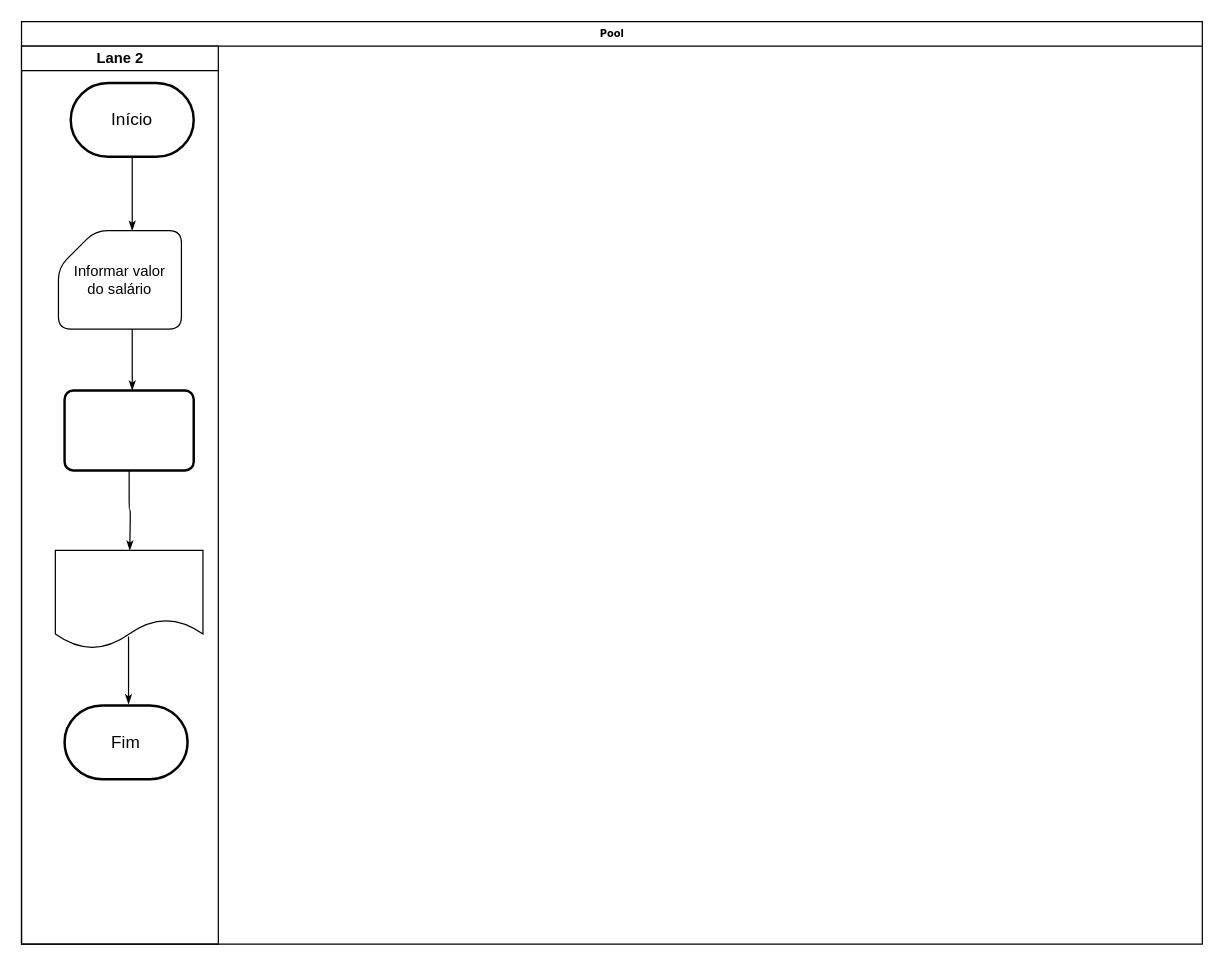
This 1224x966 diagram has some shape labels left out. Here are the shapes that lost their labels. From the top down, the centre of each, then its label:
[128,430]: Multiplicar salario * alíquota (7,5%)
[128,599]: Exibir resultado = Valor do imposto
